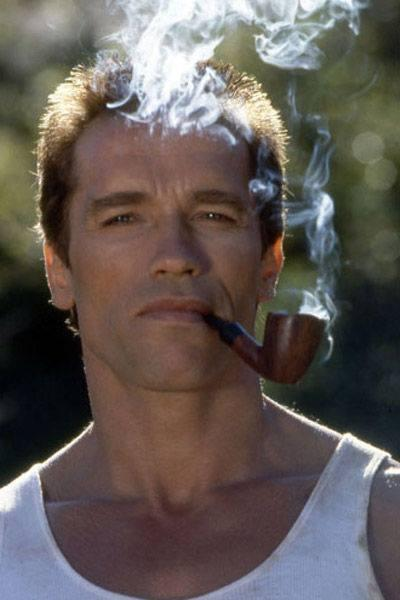trubka: (204, 311, 327, 384)
